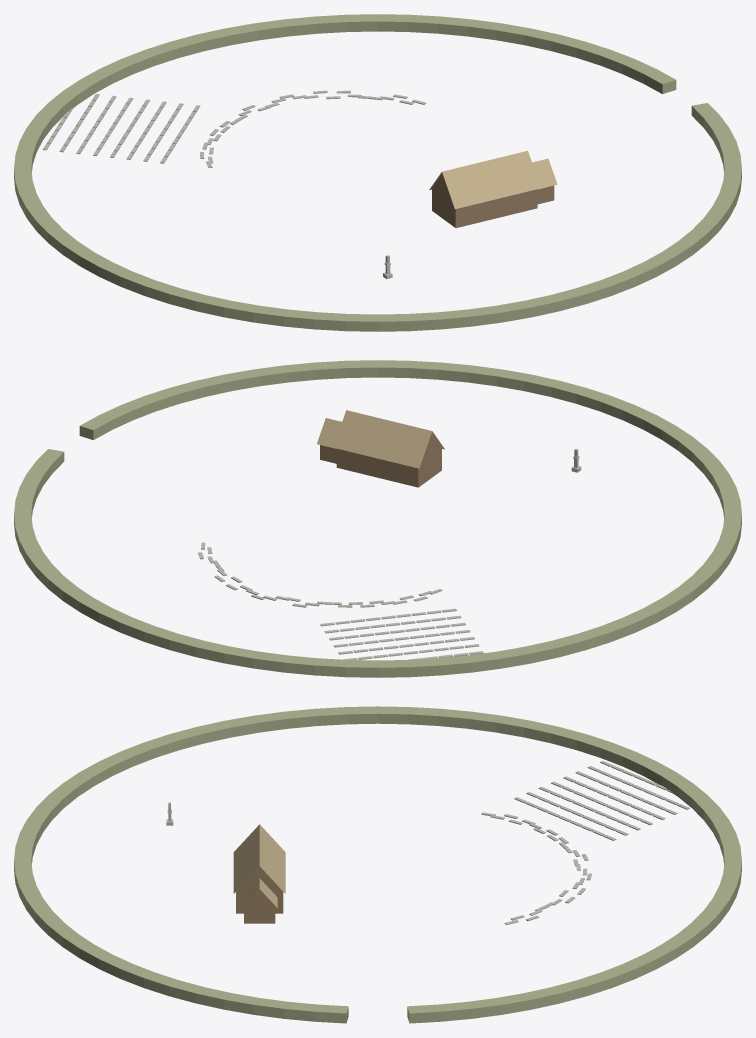
The model's file is monastery.glb.
The picture shows the model from 3 angles, top to bottom: view 1: azimuth 30°, elevation 25°; view 2: azimuth 150°, elevation 25°; view 3: azimuth 270°, elevation 25°; orthographic projection.
Parts seen in each view (by area): view 1: monastery; view 2: monastery; view 3: monastery.
Part boxes in pixels (x1,y1,x2,y2): monastery: (14, 14, 741, 331); monastery: (14, 360, 741, 677); monastery: (14, 706, 741, 1023).
Size of the model in its own units: 92.12 by 6.78 by 92.29.
